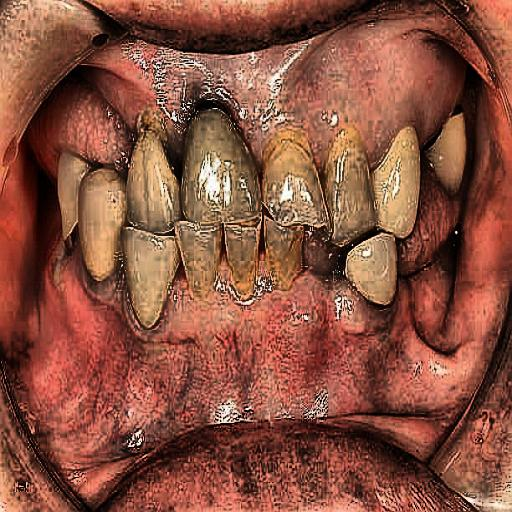Calculus: (95, 61, 437, 198), (76, 246, 354, 321)
